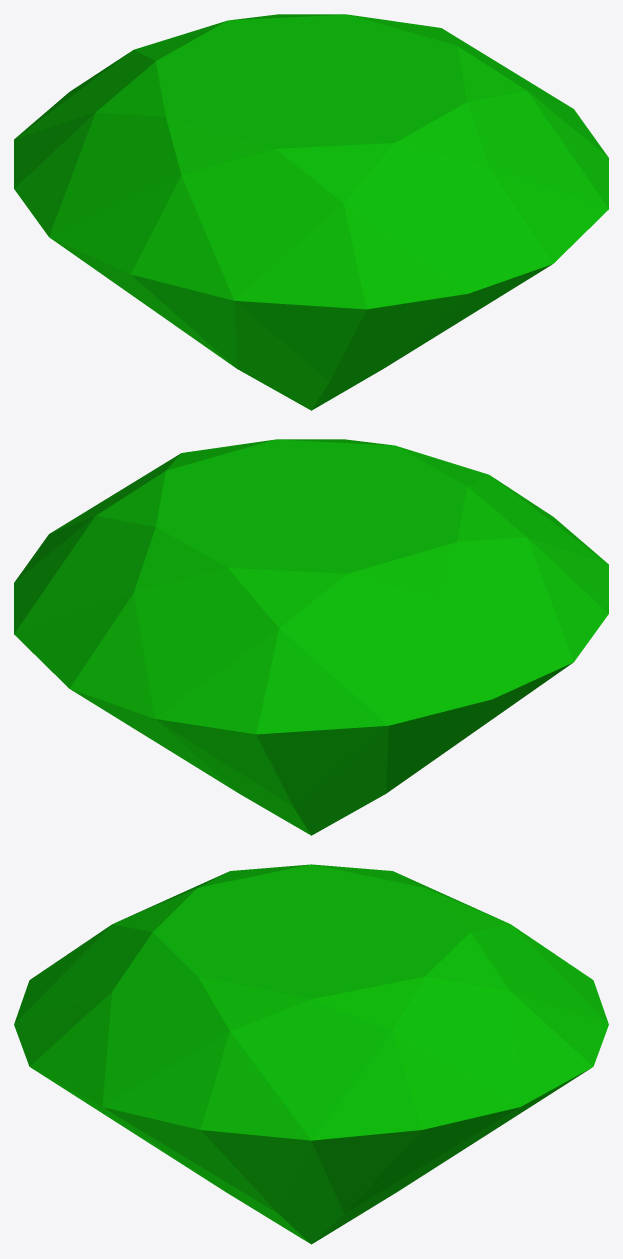
Rendered from Peridot.fbx.
3 renders of one model, top to bottom at view 1: azimuth 30°, elevation 25°; view 2: azimuth 150°, elevation 25°; view 3: azimuth 270°, elevation 25°, orthographic. The views are drawn at different scales.
Visible parts, largest first — view 1: Plane; view 2: Plane; view 3: Plane.
Part boxes in pixels (box(x1,y1,x2,y2)): Plane: box(14, 14, 608, 410); Plane: box(14, 439, 608, 835); Plane: box(14, 864, 608, 1244).
Size of the model in its own units: 516 by 309 by 534.
